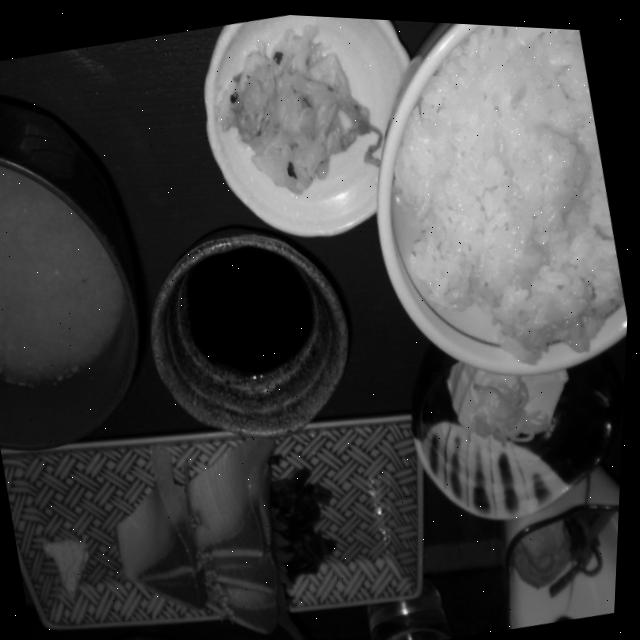刺身生食: (48, 369, 388, 640)
